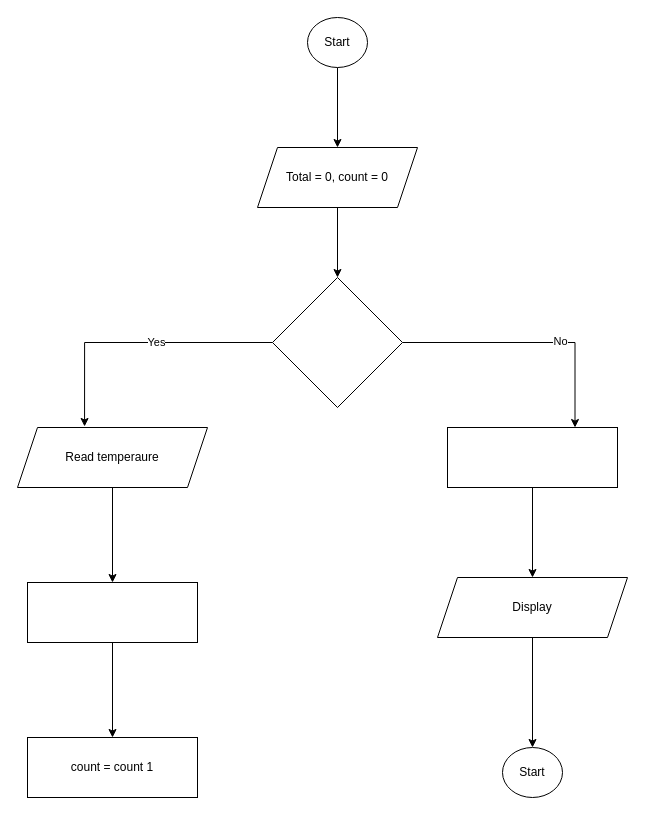
The diagram is 645 pixels wide and 815 high, and some of its shapes have lost their labels. Here are the shapes that lost their labels. From the top down, the centre of each, then its label:
At [337,342]: "Count <7?".
At [532,457]: "Average = total / 7".
At [112,612]: "total = total + temperature".
